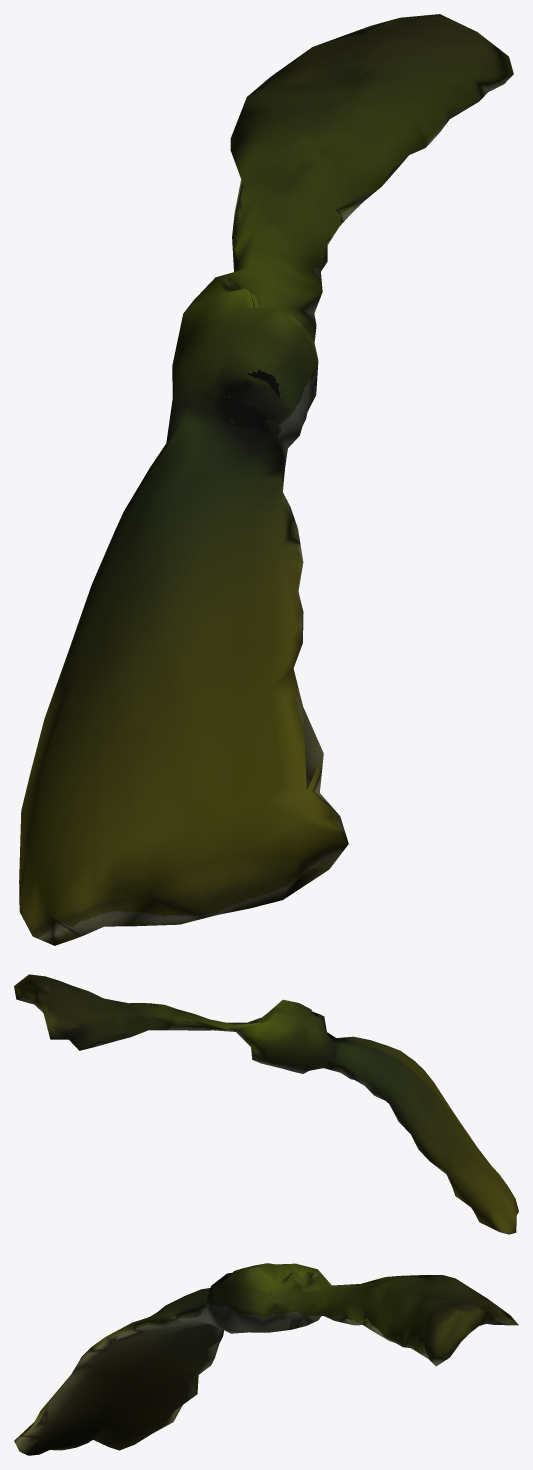
The model's file is kelp.glb.
3 views of the same model, one above another, from view 1: azimuth 30°, elevation 25°; view 2: azimuth 150°, elevation 25°; view 3: azimuth 270°, elevation 25° (orthographic). The views are drawn at different scales.
Visible parts, largest first — view 1: 海帶low.001; view 2: 海帶low.001; view 3: 海帶low.001.
Boxes of the visible parts, bbox=[...] form: 海帶low.001: bbox=[19, 14, 513, 945]; 海帶low.001: bbox=[14, 974, 518, 1234]; 海帶low.001: bbox=[14, 1263, 518, 1455].
Bounding box in the file's own units: 0.9893 × 0.7165 × 0.9852.
Materials: 1 (1 with a texture image).
